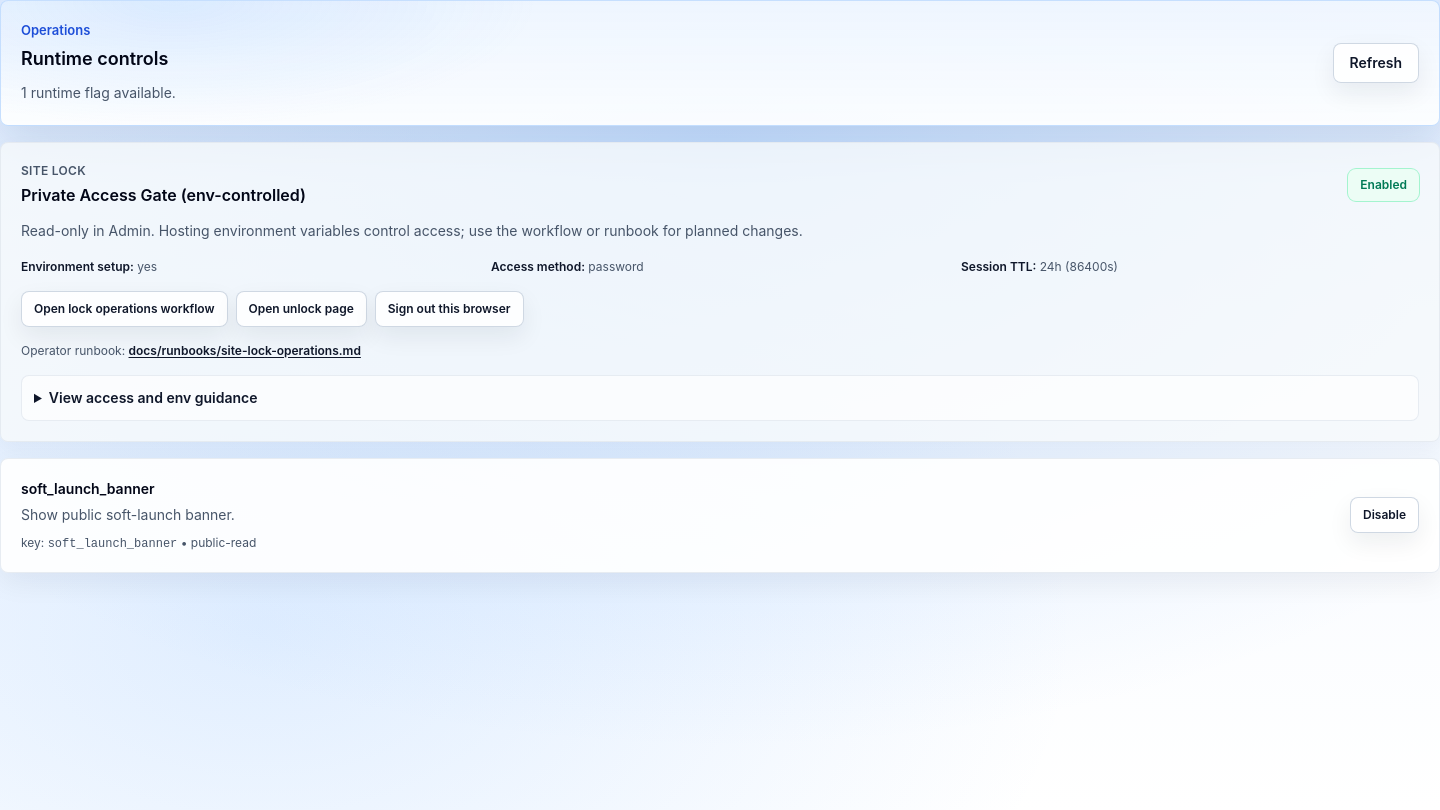
AdminOperationsManager state rendering › keeps runtime flag toggle payloads unchanged while using token actions
Click the button "Disable" at (1384, 515), box x1=1350 y1=497 x2=1419 y2=533
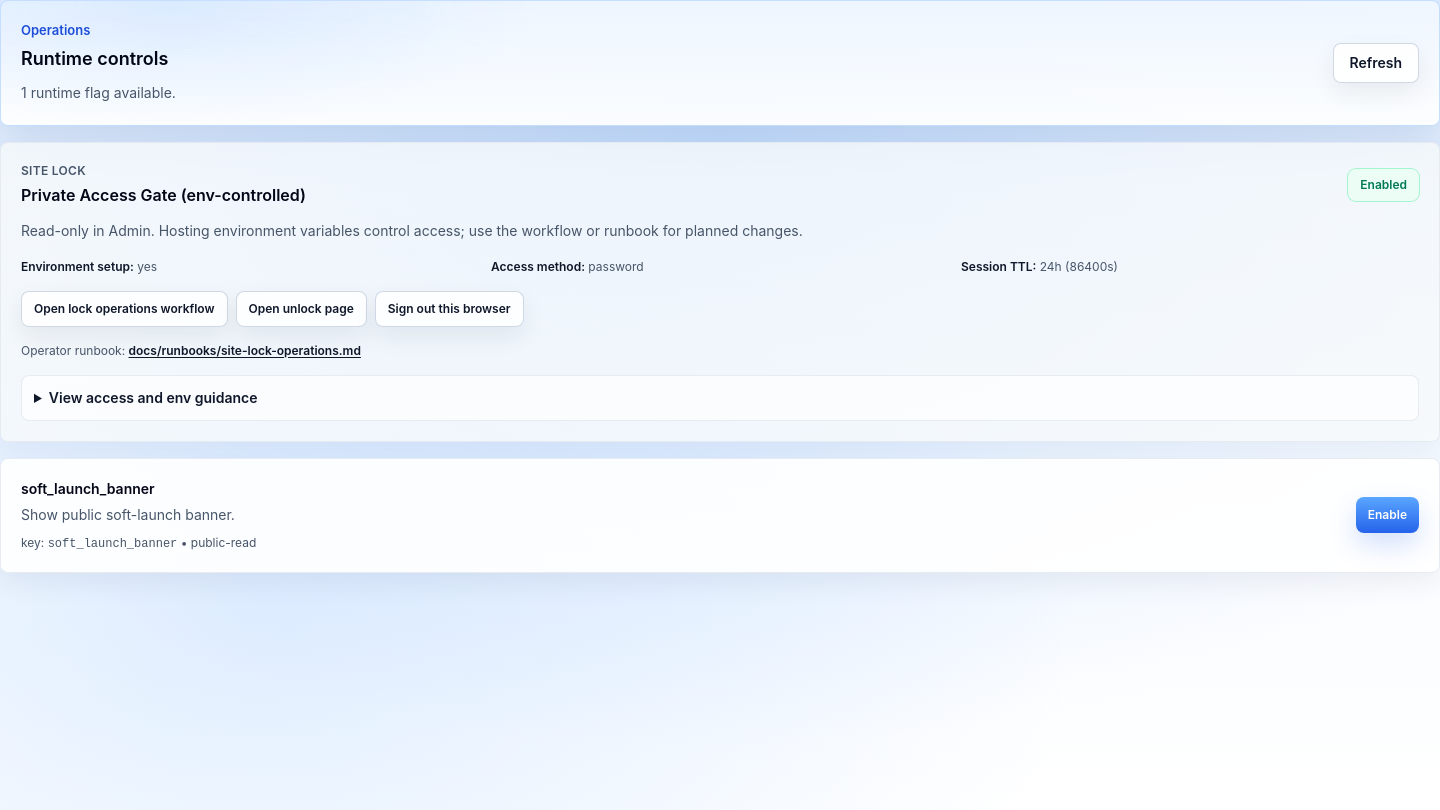
Now the button "Enable" is shown, box x1=1356 y1=497 x2=1419 y2=533
